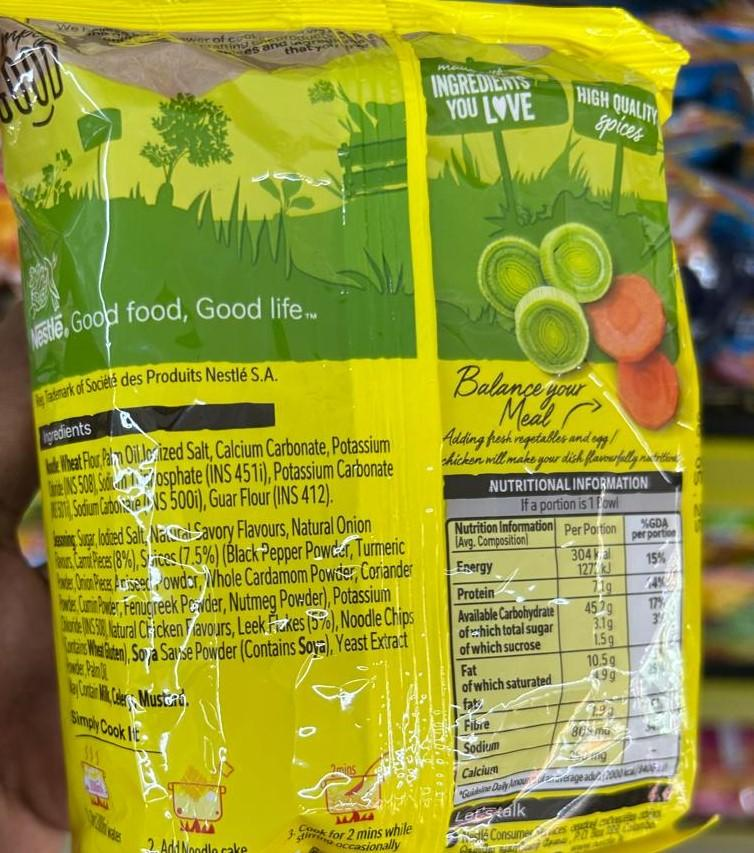ingredients: (23, 370, 443, 741)
